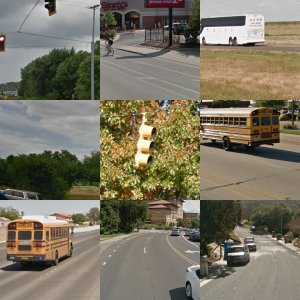棕櫚樹: (254, 3, 300, 99)
汽車: (228, 220, 271, 237), (150, 243, 172, 264), (190, 28, 202, 51), (147, 19, 163, 30)
紅綠燈: (4, 136, 36, 196)
行人穿越道: (133, 148, 199, 189), (17, 73, 63, 100)
